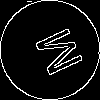M: (25, 25, 84, 83)
